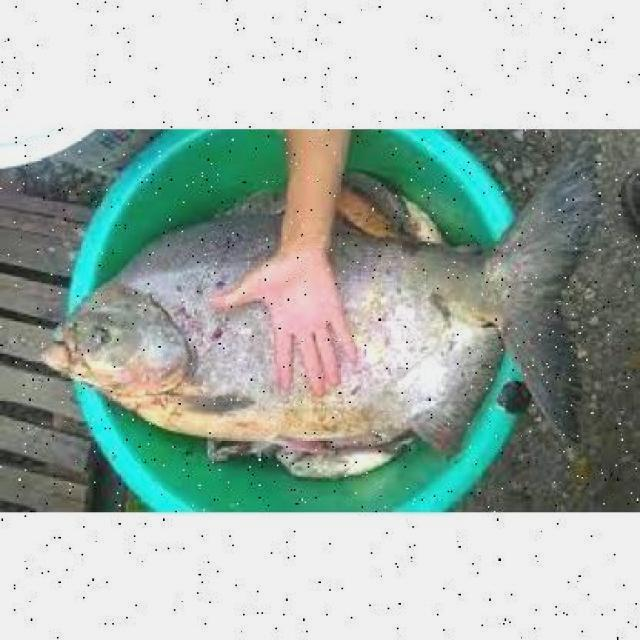ikan-pacu: (41, 200, 586, 446)
